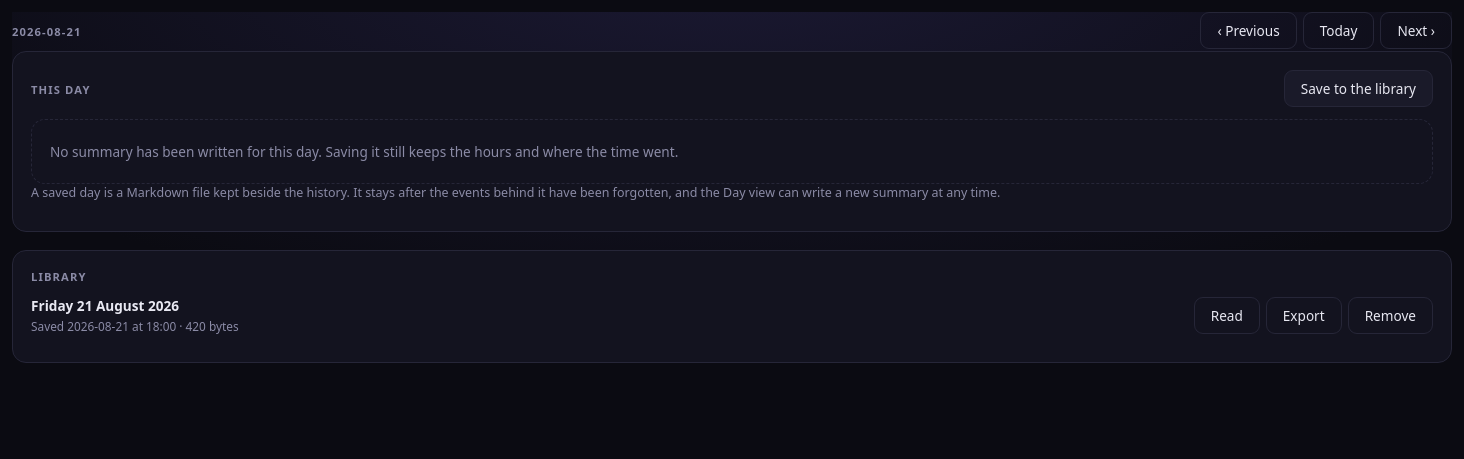
it: Summary view › reports a failed export rather than pretending it worked
Click the button "Export": [1304, 315] box [1266,296,1342,334]
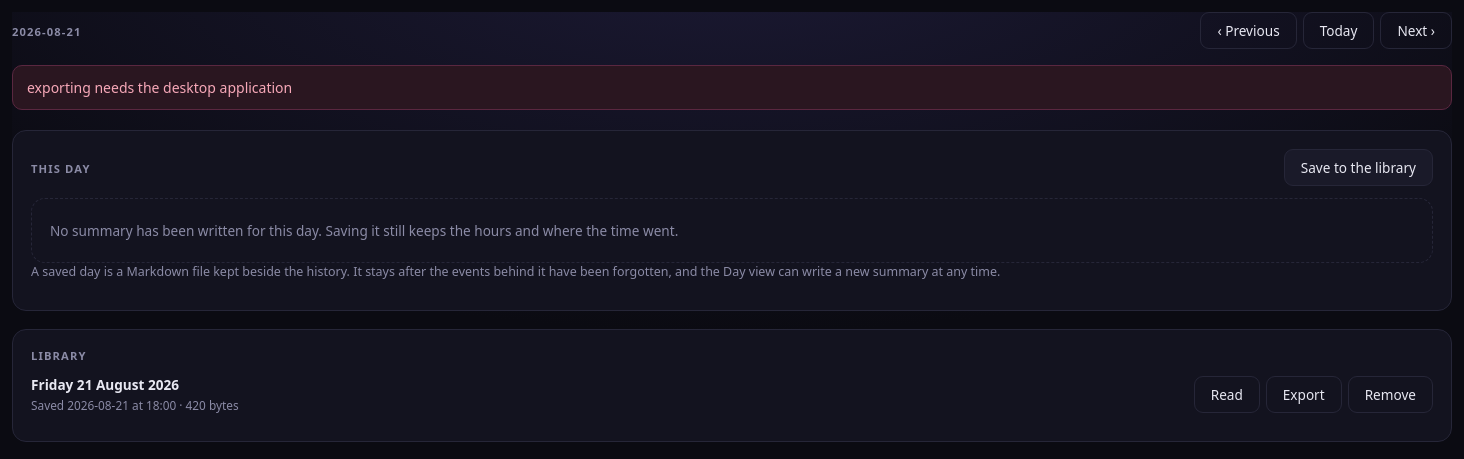
Check: the message reads "exporting needs the desktop application", box [27,78,292,97]
